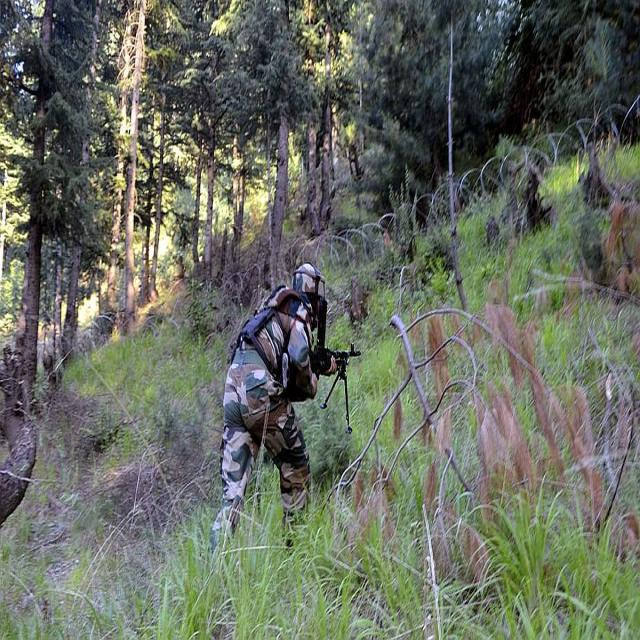Forest: (0, 1, 640, 640)
Militant: (205, 236, 359, 580)
